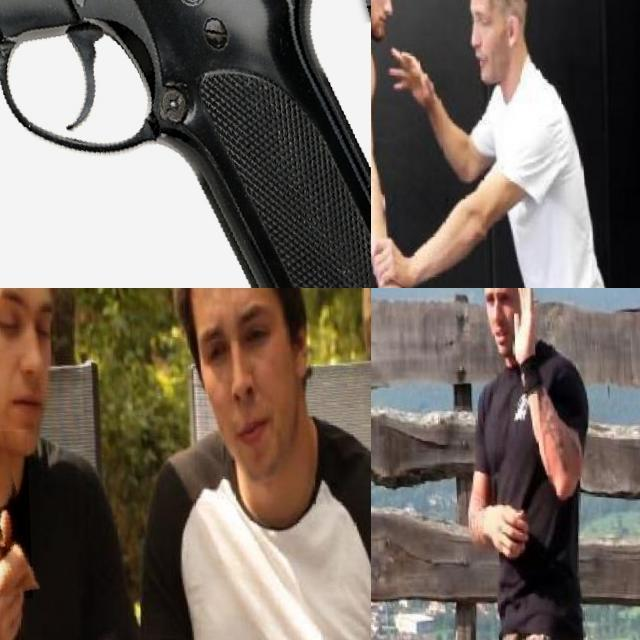-: (0, 427, 37, 595)
gun-knife-thesis - v11 Yolov5 augmented: (0, 0, 371, 288)
